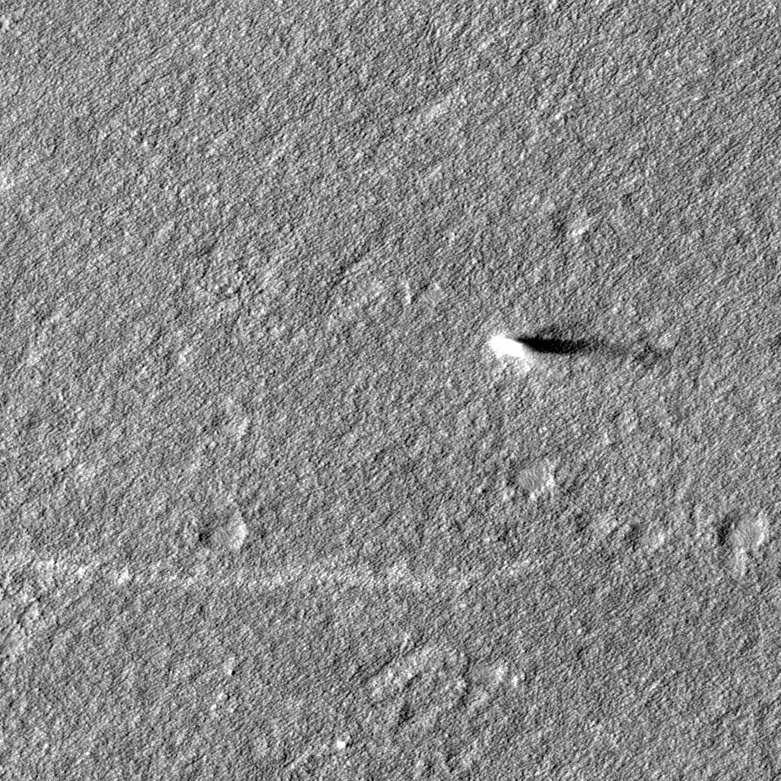dust_devil: (485, 324, 628, 366)
